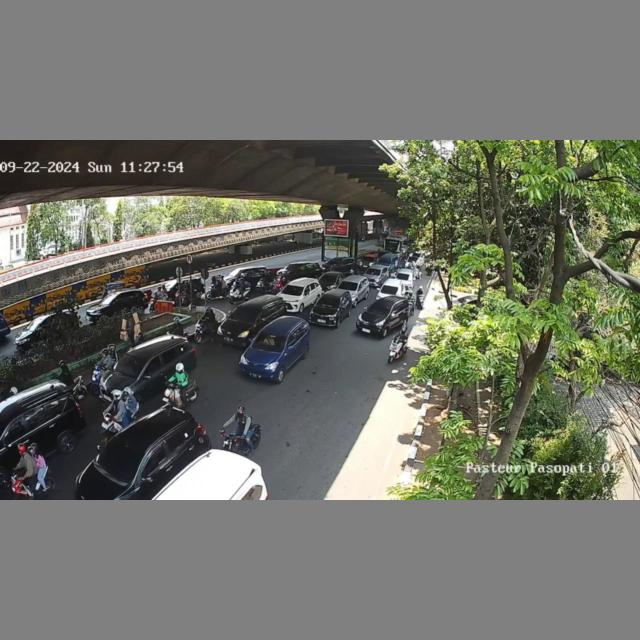windshield: (92, 438, 144, 484), (111, 351, 147, 378), (252, 331, 291, 354), (228, 307, 258, 323), (365, 301, 392, 316), (316, 296, 341, 309), (281, 285, 305, 296), (381, 285, 400, 295), (338, 282, 358, 291), (396, 272, 413, 281), (364, 268, 382, 276), (321, 275, 337, 283)
